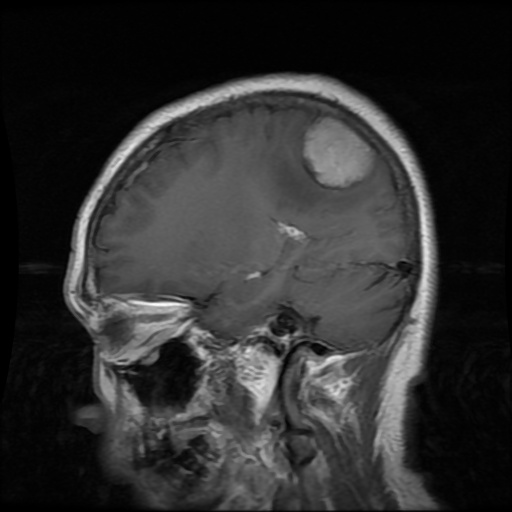meningioma: (303, 118, 376, 186)
